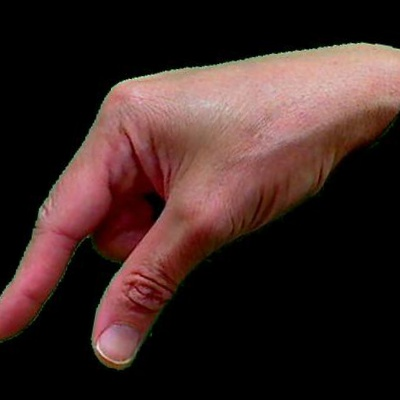q: (3, 2, 400, 397)
